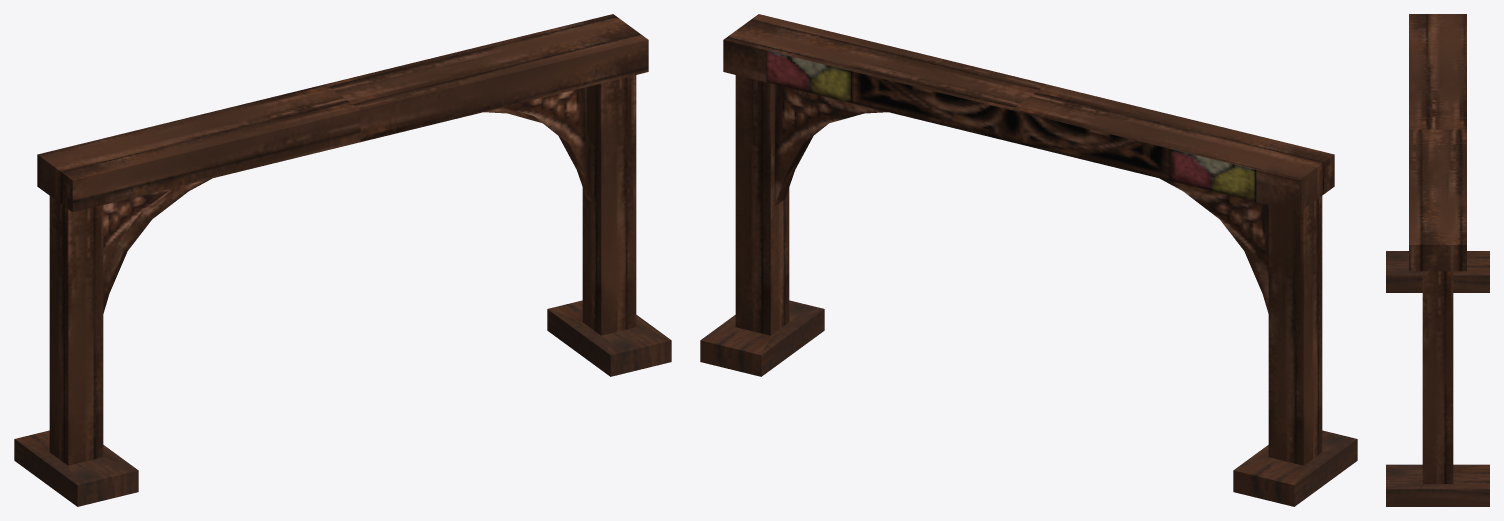
The model's file is MH_Gerbang00.fbx.
3 renders of one model, left to right at view 1: azimuth 30°, elevation 25°; view 2: azimuth 150°, elevation 25°; view 3: azimuth 270°, elevation 25°, orthographic. The views are drawn at different scales.
Visible parts, largest first — view 1: MH_Gerbang; view 2: MH_Gerbang; view 3: MH_Gerbang.
Boxes of the visible parts, x1,y1,x2,y2 form: MH_Gerbang: (14,14,671,506); MH_Gerbang: (700,14,1357,506); MH_Gerbang: (1386,14,1489,506).
Size of the model in its own units: 970 by 490 by 179.
